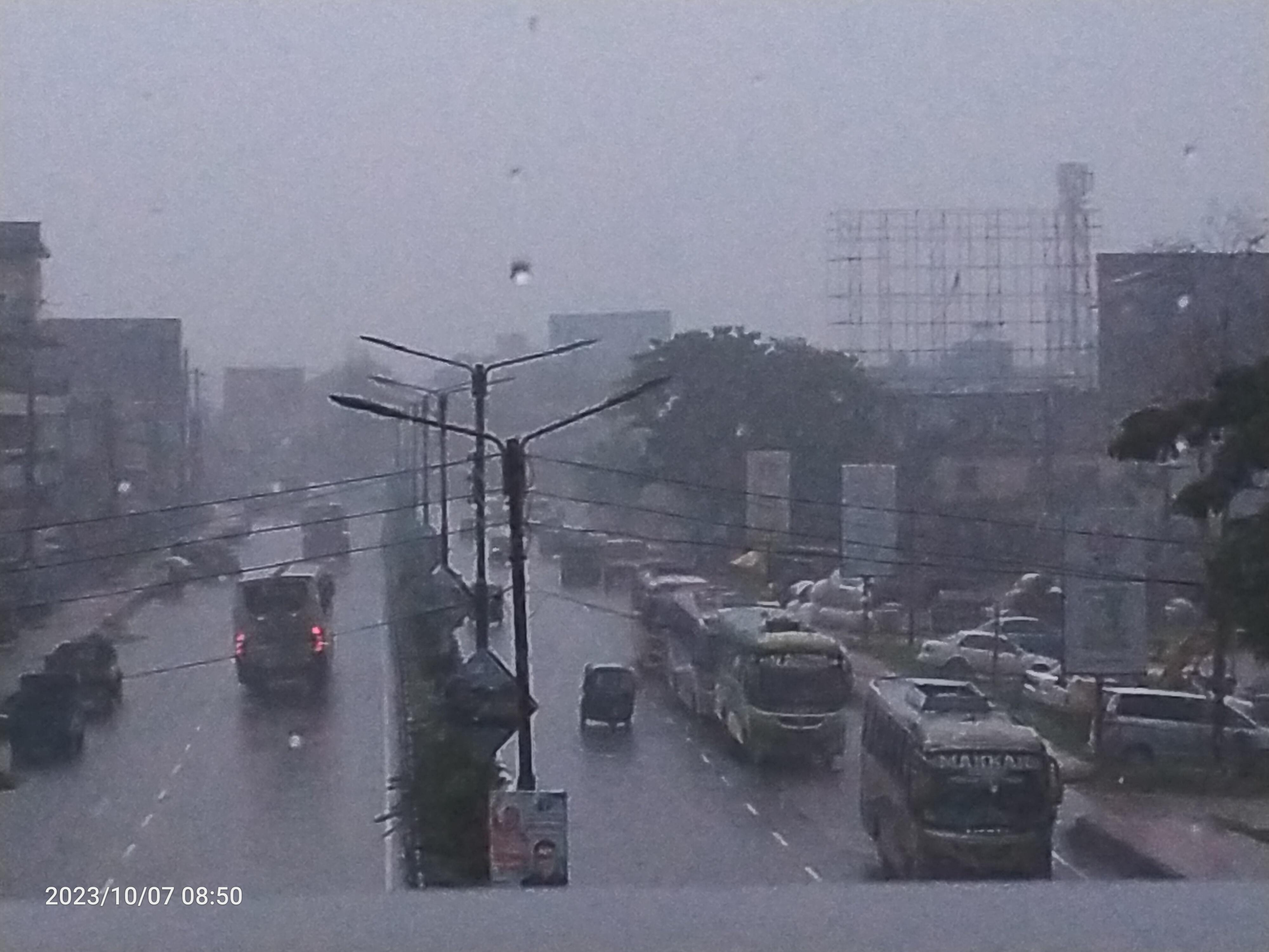Bus: (838, 663, 1080, 903), (694, 598, 881, 789), (219, 548, 364, 713), (610, 548, 740, 690), (287, 479, 371, 580)
Car: (1083, 652, 1269, 803), (887, 604, 1086, 704)
Truck: (30, 610, 145, 721), (0, 663, 101, 789)
